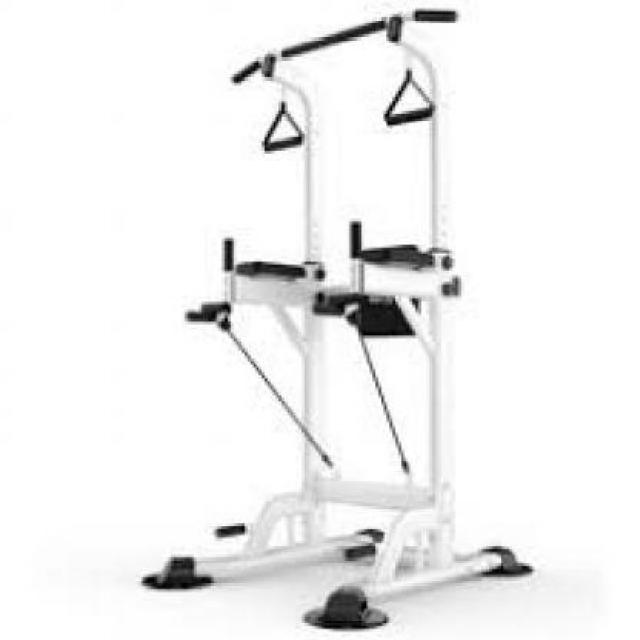chinning dipping: (140, 8, 534, 629)
